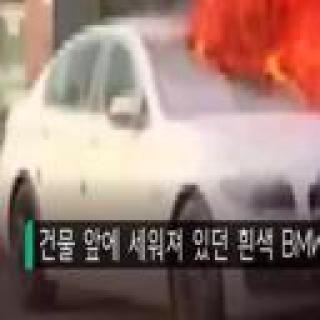fire: (208, 0, 320, 83)
